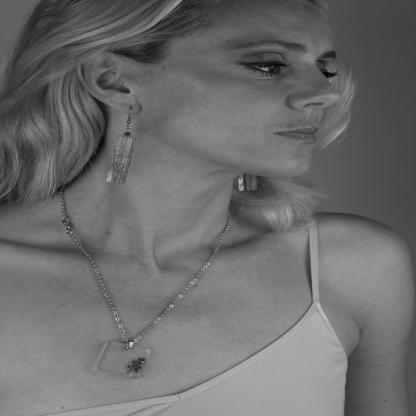Eye: (232, 48, 290, 79), (312, 59, 340, 81)
Mouth: (268, 119, 322, 146)
Nose: (285, 61, 340, 112)
